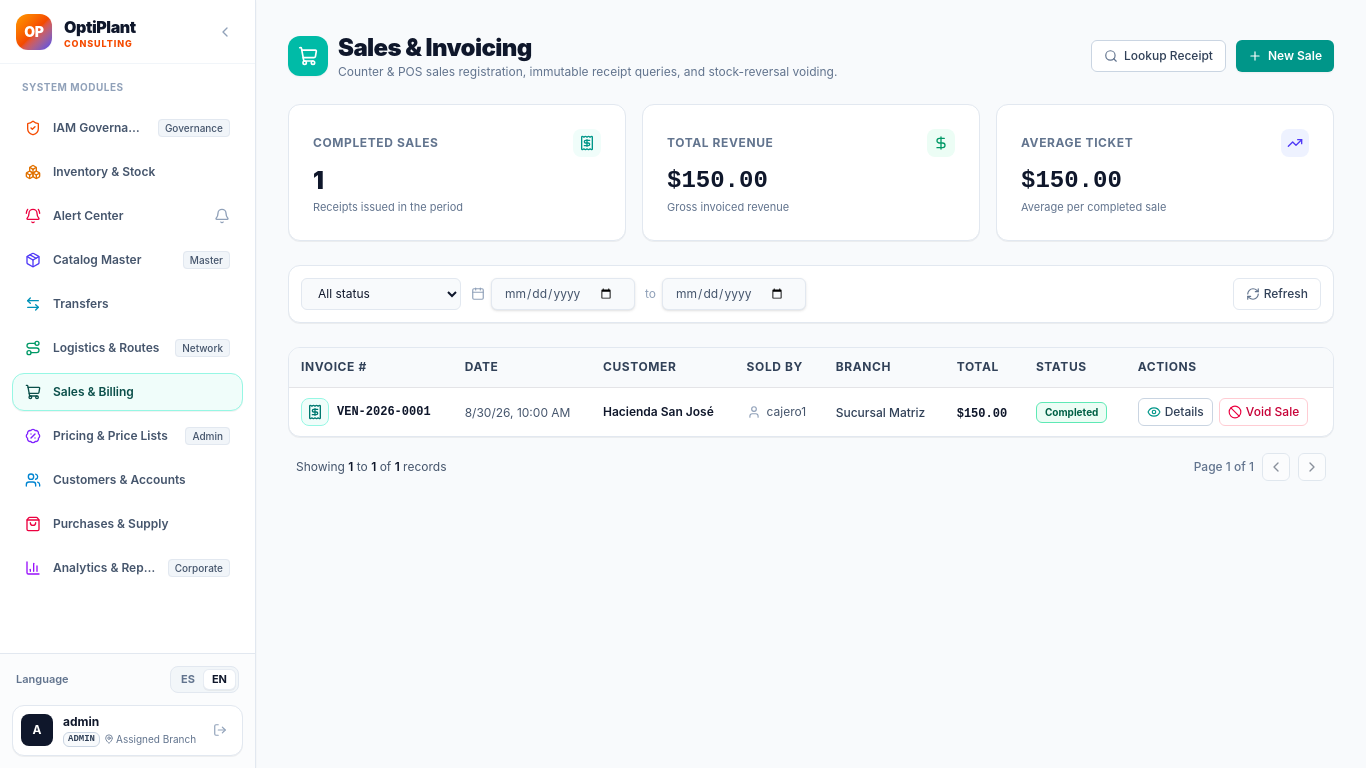
Test: SalesDashboard Component Tests › opens sale detail dialog when details button is clicked
The width and height of the screenshot is (1366, 768).
Click the button titled "Details" at (1175, 412), box [1138,398,1213,426]
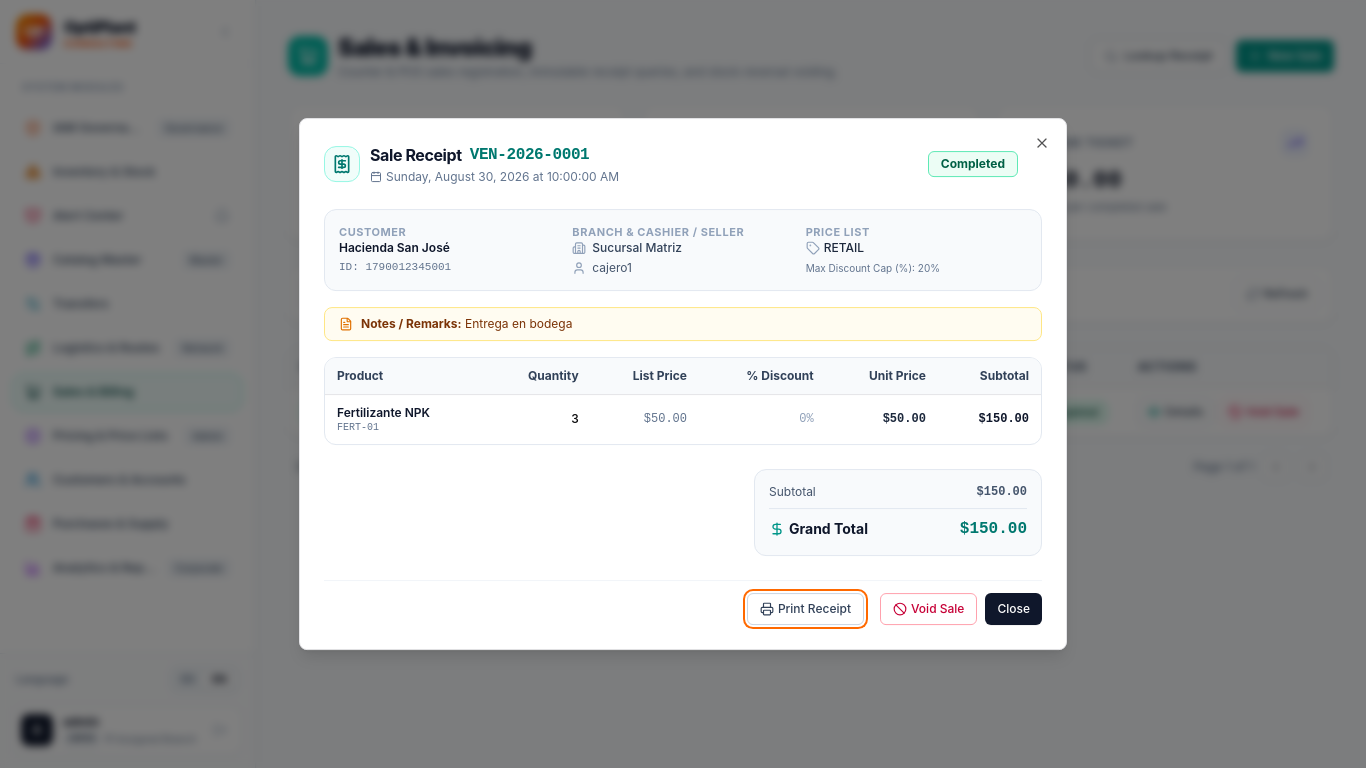
Now the text "1790012345001" is shown, box [365,261,451,273]
Now the text "Entrega en bodega" is shown, box [465,316,572,331]
